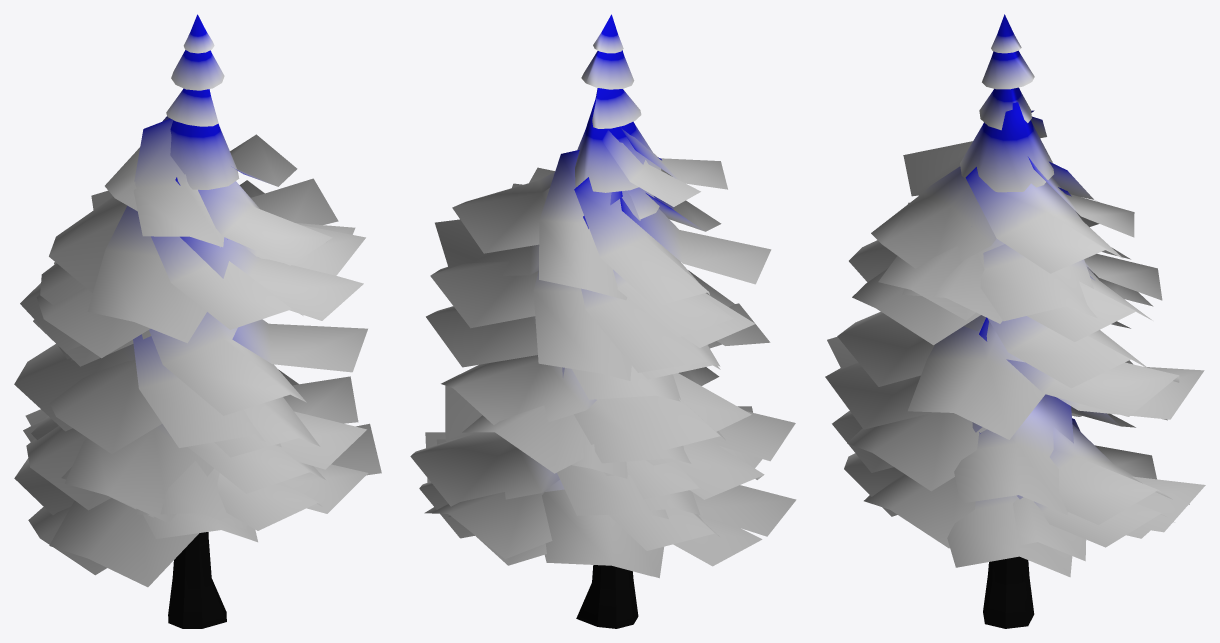
The model's file is SM_Fir_02.fbx.
3 renders of one model, left to right at view 1: azimuth 30°, elevation 25°; view 2: azimuth 150°, elevation 25°; view 3: azimuth 270°, elevation 25°, orthographic.
Visible parts, largest first — view 1: SM_Fir_02; view 2: SM_Fir_02; view 3: SM_Fir_02.
Boxes of the visible parts, box(x1,y1,x2,y2) form: SM_Fir_02: box(14, 14, 381, 628); SM_Fir_02: box(410, 14, 796, 628); SM_Fir_02: box(825, 14, 1205, 628).
Bounding box in the file's own units: 341 × 333 × 580.
